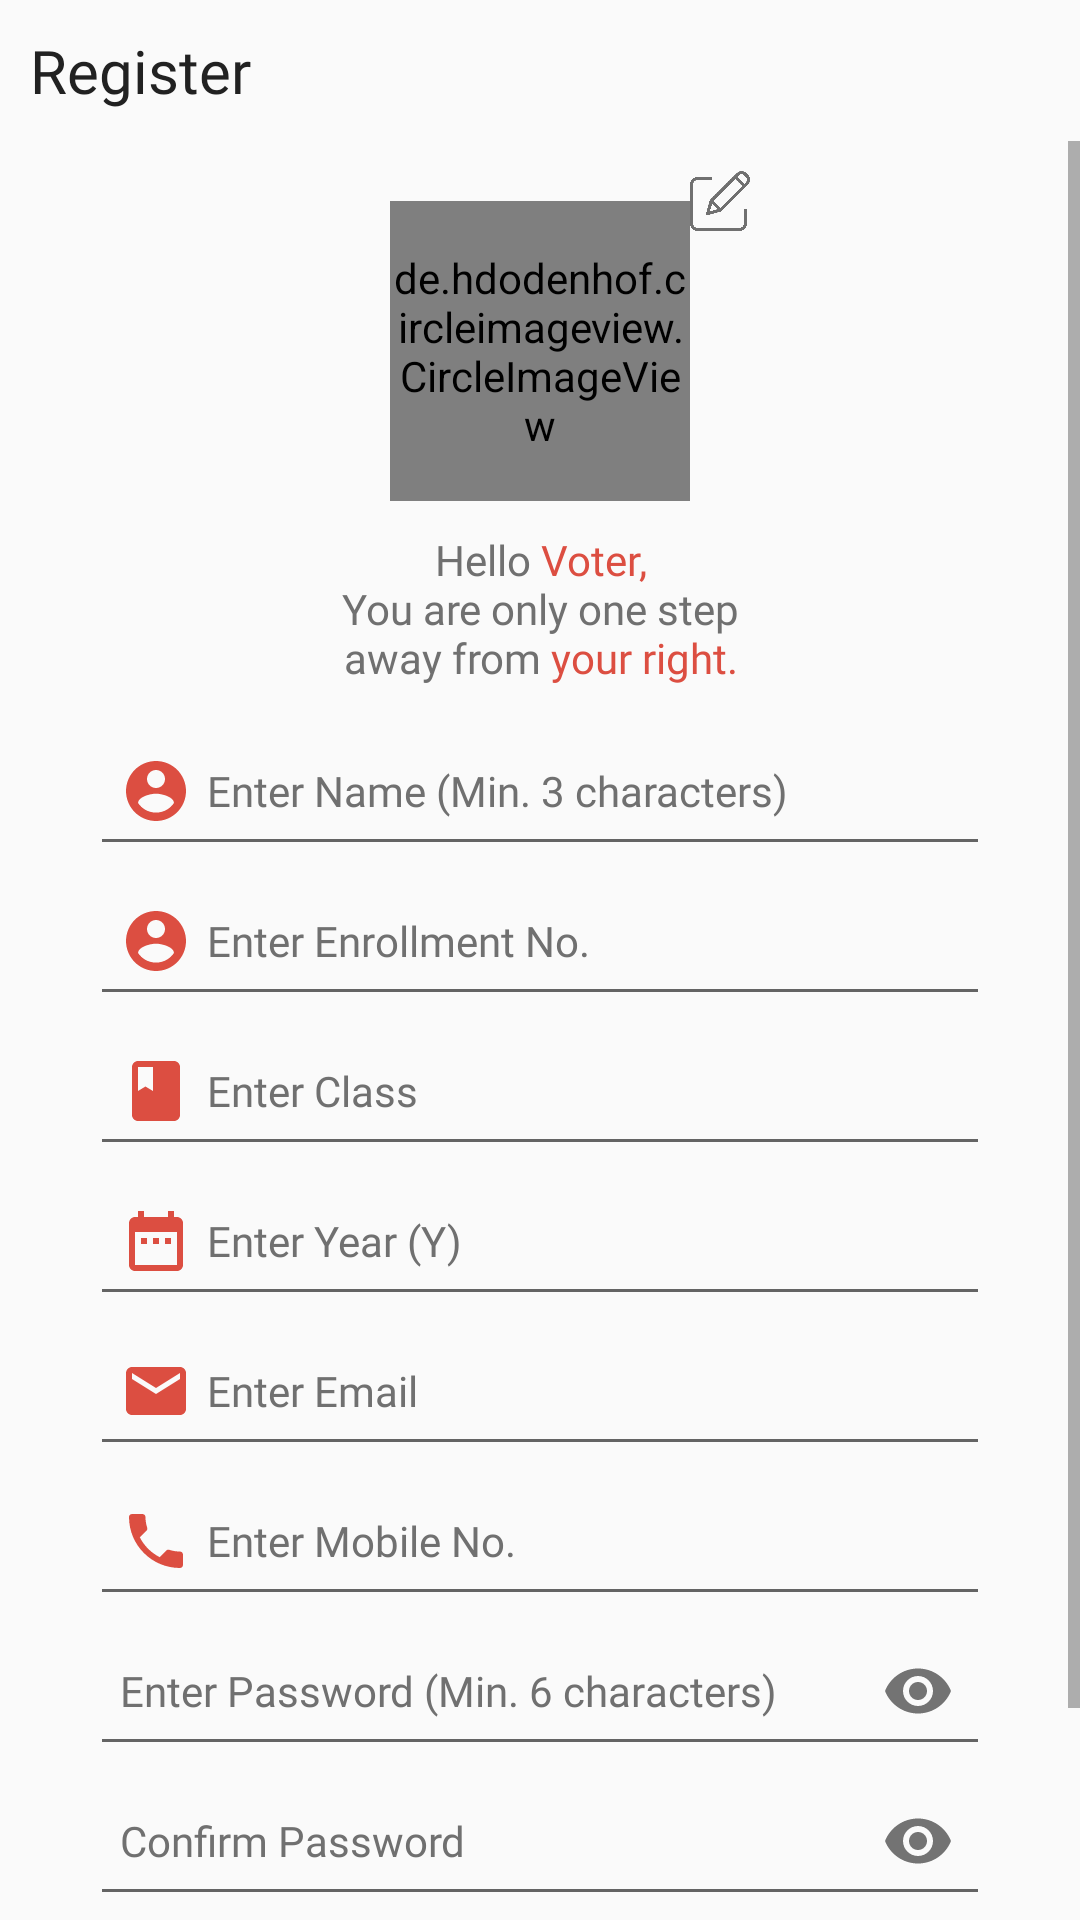

Icons on this 1080w x 1920h Android screen, each with the point to tap as [x,y]:
edit: [728,193]
